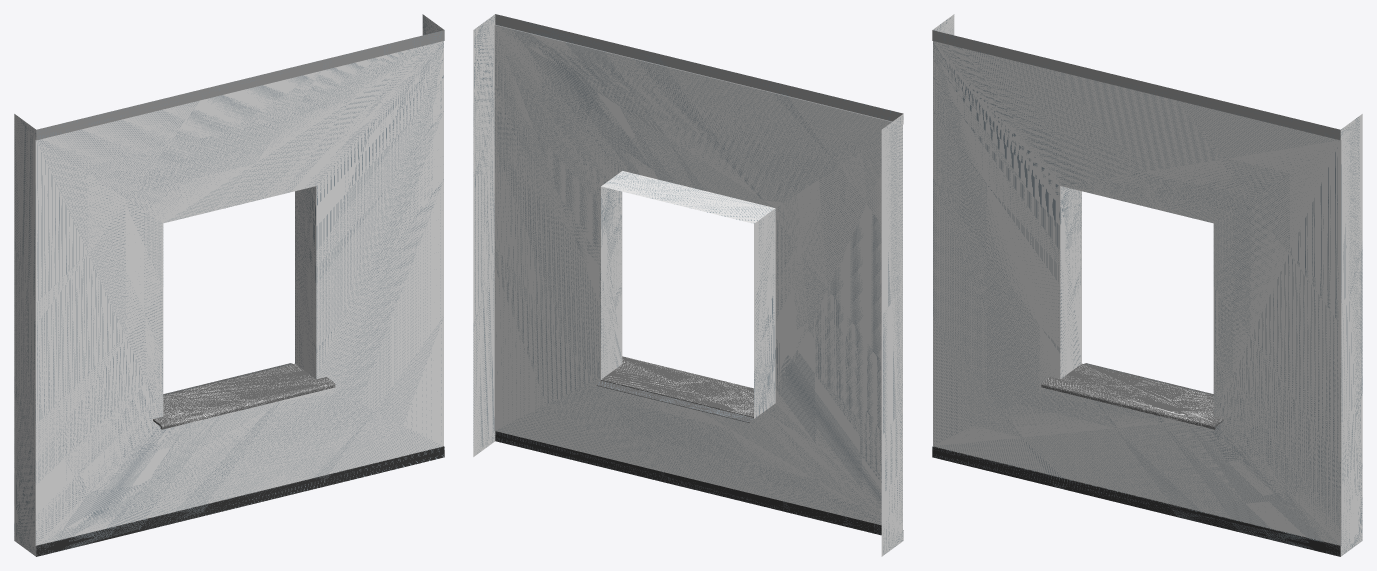
File: WindowBlock_os_plinth_[400x400]_150x181x[100].dae
The picture shows the model from 3 angles, left to right: view 1: azimuth 30°, elevation 25°; view 2: azimuth 150°, elevation 25°; view 3: azimuth 330°, elevation 25°; orthographic projection.
Parts seen in each view (by area): view 1: group_2 (×4), group_1; view 2: group_2 (×4), group_1 (×2); view 3: group_2 (×4), group_1.
Part boxes in pixels (x1,y1,x2,y2): group_2 (×4): (14, 14, 444, 556); group_1: (153, 363, 335, 429); group_2 (×4): (473, 14, 903, 556); group_1 (×2): (596, 356, 753, 422); group_2 (×4): (932, 14, 1362, 556); group_1: (1041, 363, 1223, 429).
Bounding box in the file's own units: 157 × 23.03 × 157.
